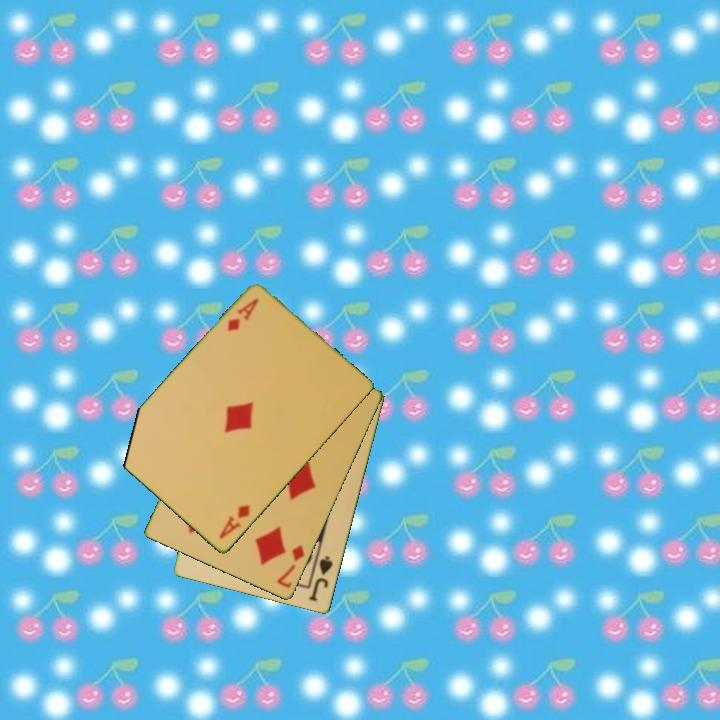7d: (273, 541, 308, 592)
Ad: (215, 501, 253, 542), (224, 295, 262, 335)
Js: (305, 553, 336, 605)
